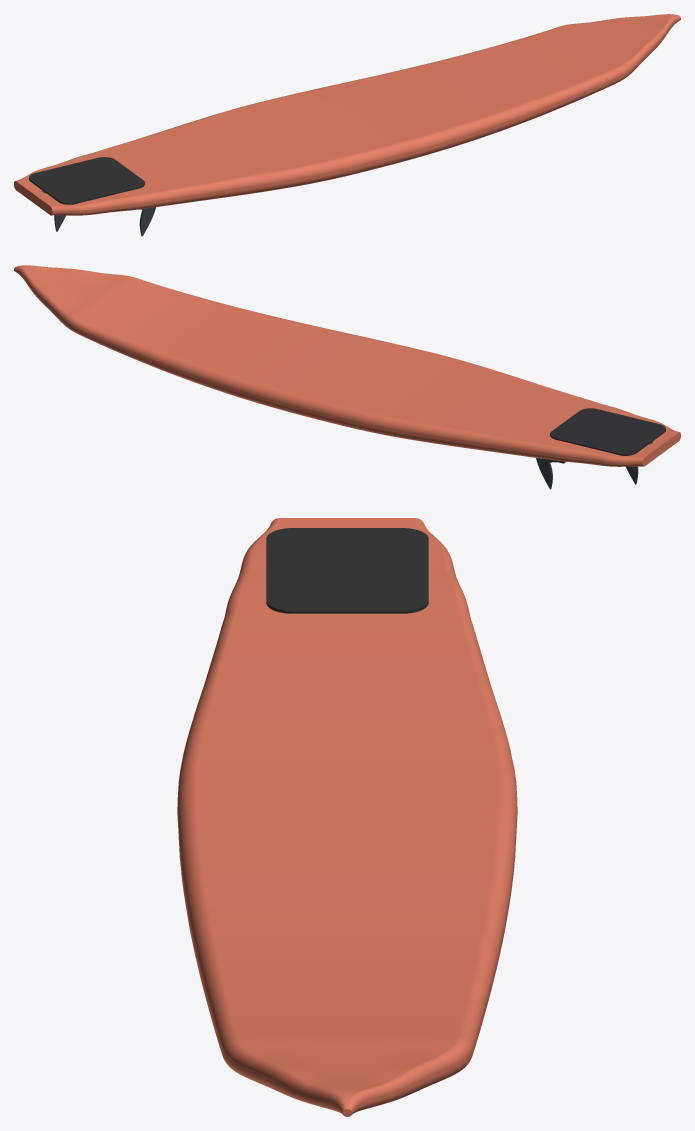
The picture shows the model from 3 angles, top to bottom: view 1: azimuth 30°, elevation 25°; view 2: azimuth 150°, elevation 25°; view 3: azimuth 270°, elevation 25°; orthographic projection. The views are drawn at different scales.
Parts seen in each view (by area): view 1: body.1, rubber.4; view 2: body.1, rubber.4; view 3: body.1, rubber.4.
Boxes of the visible parts, x1,y1,x2,y2 form: body.1: (14,14,680,215); rubber.4: (29,157,144,204); body.1: (14,265,680,466); rubber.4: (550,408,665,455); body.1: (177,518,517,1116); rubber.4: (266,528,428,613).
Size of the model in its own units: 2.29 by 0.2292 by 0.5208.
